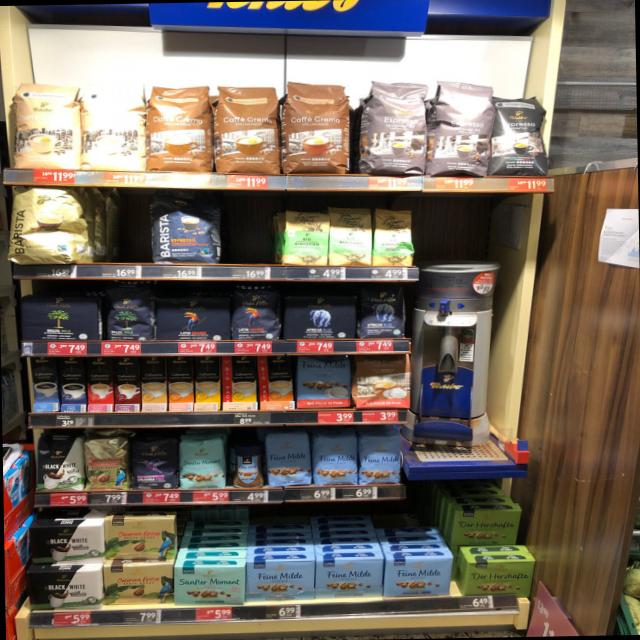AB Bohne: (355, 281, 410, 340)
AB Gemahlen: (280, 292, 360, 342)
Athiopien Bohne: (374, 206, 418, 266)
Athiopien Gemahlen: (280, 205, 330, 268), (328, 202, 374, 269)
BM Bohne: (102, 280, 156, 340)
BM Gemahlen: (16, 296, 102, 343)
BW Bohne: (34, 431, 86, 493)
BW Gemahlen: (24, 569, 104, 611), (27, 524, 106, 566)
Barista CB: (6, 183, 98, 265)
Barista Espresso: (148, 187, 224, 264)
C Fino Bohne: (130, 434, 180, 491)
CC Mild: (8, 78, 82, 174), (83, 78, 147, 174)
CC Vollmundig: (354, 355, 414, 410)
CC Vollmundig 36 Pads: (280, 79, 352, 176), (146, 80, 215, 174), (213, 82, 282, 176)
Colombia BB Bohne: (82, 432, 131, 490)
Colombia BB Gemahlen: (104, 516, 178, 560), (104, 563, 174, 604)
Empty Shelf: (223, 189, 280, 265), (96, 188, 151, 264)
Espresso Aromatisch: (357, 74, 428, 178), (428, 74, 494, 178)
Espresso Kraftig: (492, 87, 554, 178)
FM 36 Pads: (294, 354, 354, 409)
FM Bohne: (264, 430, 314, 487), (312, 430, 360, 486), (358, 432, 404, 484)
FM Gemahlen: (384, 556, 454, 597), (246, 559, 316, 600), (317, 557, 384, 598)
FM Instant: (231, 441, 265, 489)
Herzhatfe Mundig: (452, 506, 526, 547), (466, 560, 536, 600)
LG Bohne: (232, 283, 282, 342)
LG Gemahlen: (154, 294, 233, 342)
SM Bohne: (178, 432, 229, 489)
SM Gemahlen: (172, 565, 245, 606)
Simo CCMild: (222, 354, 257, 410)
Simo CCMild bigpack: (194, 356, 220, 410)
Simo CCVollmundig: (258, 354, 294, 411)
Simo CCVollmundig bigpack: (166, 356, 194, 411)
Simo Decaff: (140, 356, 167, 412)
Simo Es Brazil: (86, 357, 113, 413)
Simo Es Caramel: (112, 357, 140, 412)
Simo Es Kraft: (58, 357, 86, 412)
Simo Es Vanilla: (30, 356, 59, 412)
